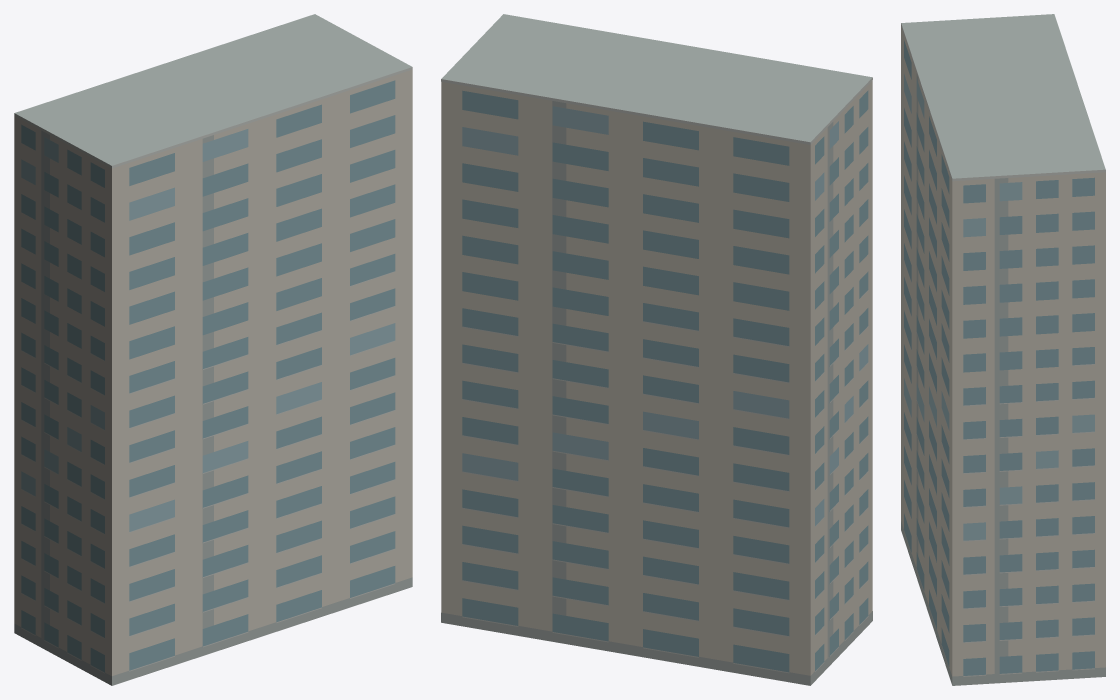
Rendered from residential-9ccafb2a-cb95-4b0c-ba93-20d5492f378e.glb.
3 views of the same model, side by side, from view 1: azimuth 30°, elevation 25°; view 2: azimuth 150°, elevation 25°; view 3: azimuth 270°, elevation 25° (orthographic). The views are drawn at different scales.
Visible parts, largest first — view 1: residential-9ccafb2a-cb95-4b0c-ba93-20d5492f378e.tmp; view 2: residential-9ccafb2a-cb95-4b0c-ba93-20d5492f378e.tmp; view 3: residential-9ccafb2a-cb95-4b0c-ba93-20d5492f378e.tmp.
Boxes of the visible parts, left/top/right/bottom form: residential-9ccafb2a-cb95-4b0c-ba93-20d5492f378e.tmp: left=14, top=14, right=412, bottom=685; residential-9ccafb2a-cb95-4b0c-ba93-20d5492f378e.tmp: left=441, top=14, right=872, bottom=685; residential-9ccafb2a-cb95-4b0c-ba93-20d5492f378e.tmp: left=901, top=14, right=1105, bottom=685.
Size of the model in its own units: 33.43 by 48 by 17.57.
